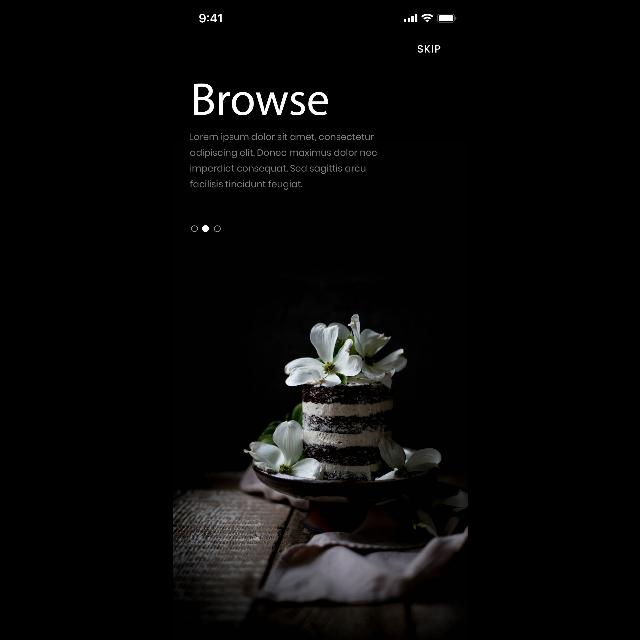image: (172, 310, 468, 640)
pageindicator: (190, 225, 220, 232)
text: (190, 134, 376, 190), (193, 84, 327, 116), (418, 45, 440, 53)
uppertaskbar: (198, 14, 456, 22)
